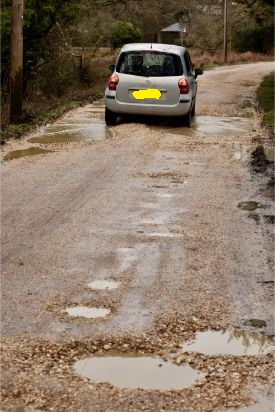pothole: (57, 335, 211, 395), (177, 323, 273, 360), (53, 302, 117, 322), (85, 274, 127, 292)
